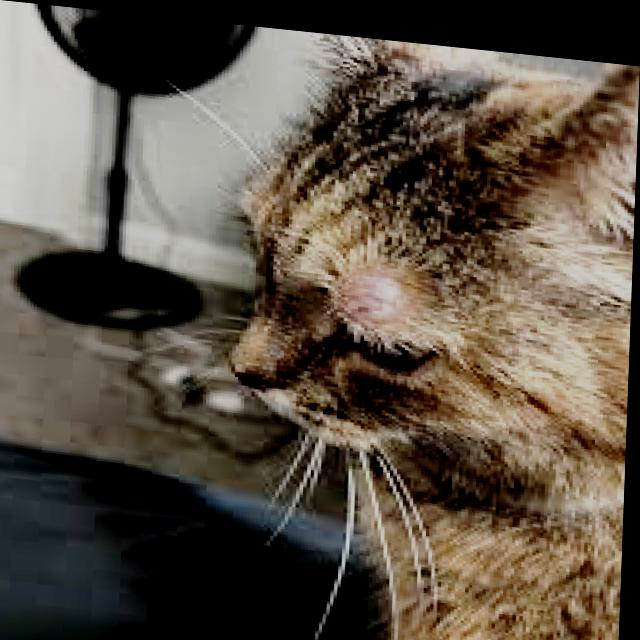lump_and_bump: (334, 271, 414, 329)
